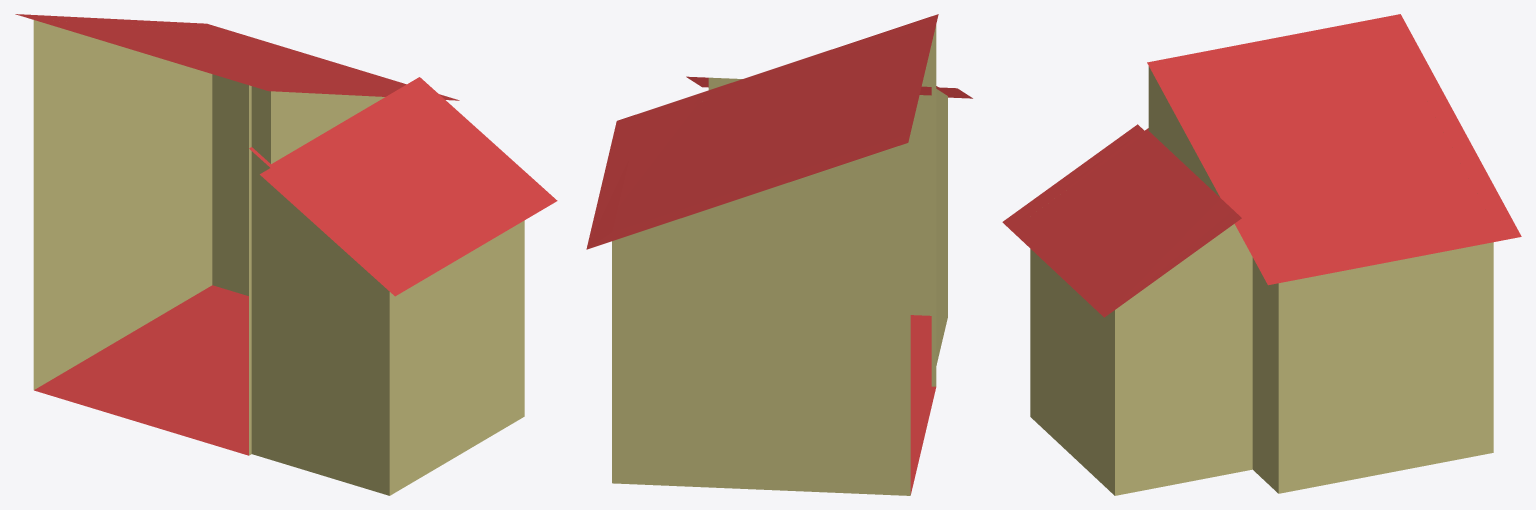
3 views of the same model, side by side, from view 1: azimuth 30°, elevation 25°; view 2: azimuth 150°, elevation 25°; view 3: azimuth 270°, elevation 25° (orthographic). The views are drawn at different scales.
Bounding box in the file's own units: 9.16 × 12.27 × 8.6.
